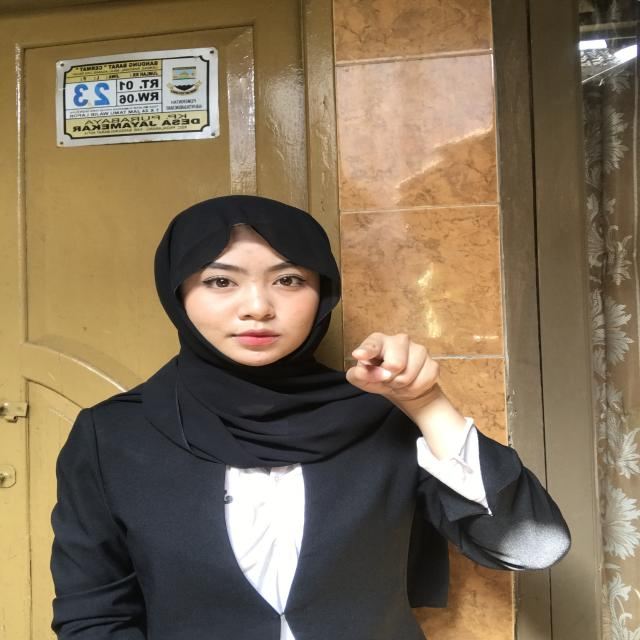kamu: (304, 321, 488, 450)
